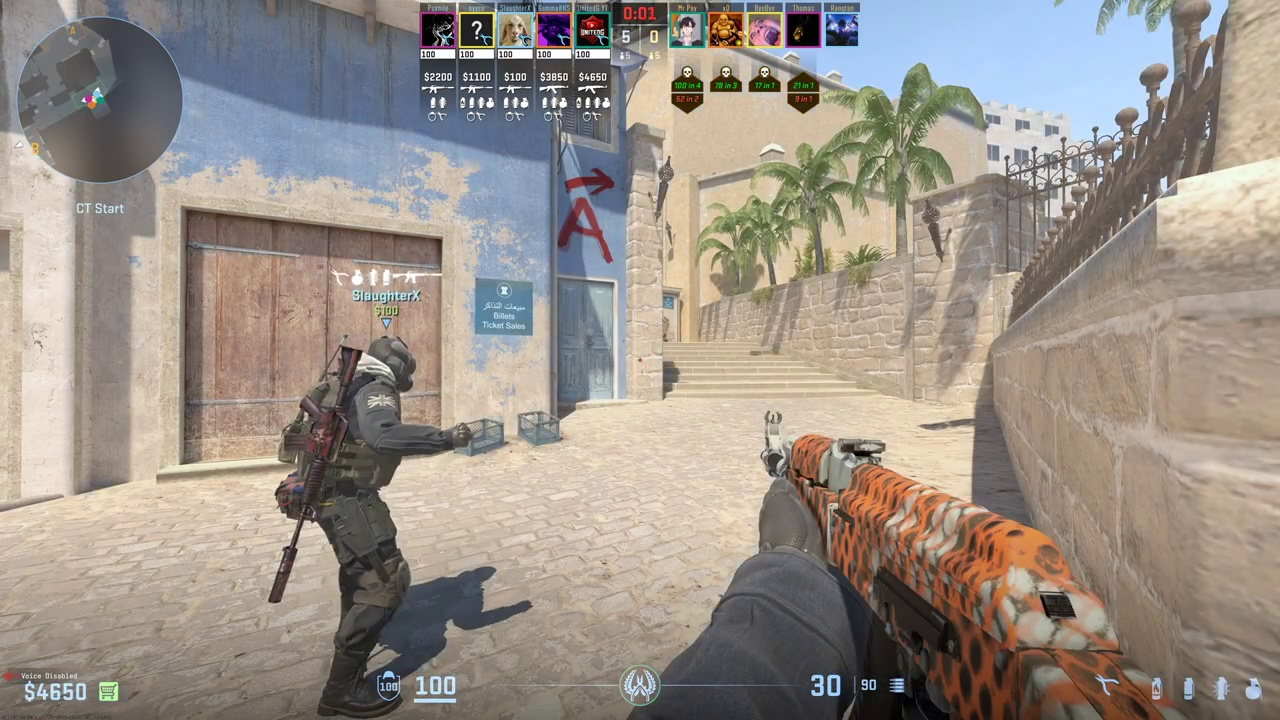CT: (286, 337, 420, 713)
